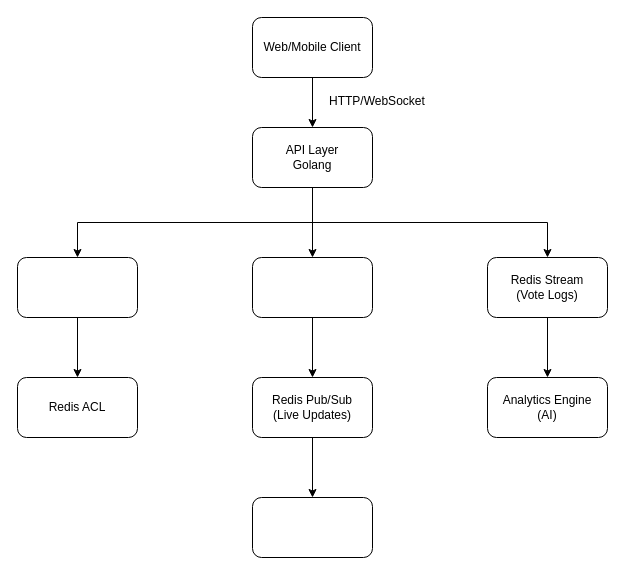
Some shapes in this 625 by 575 pixel diagram are drawn without their labels. Here are the shapes that lost their labels. From the top down, the centre of each, then its label:
At pixel 77 287: "Redis Hash (Auth User)".
At pixel 312 287: "Redis Sorted Set (Vote Count)".
At pixel 312 527: "Frontend UI Live Feed".
